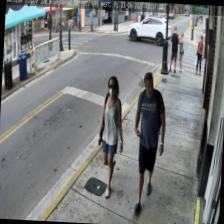person: (129, 71, 167, 212), (94, 74, 125, 198)
